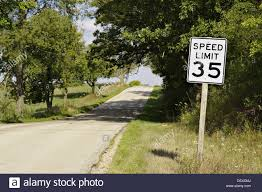speedLimit35: (187, 35, 225, 87)
